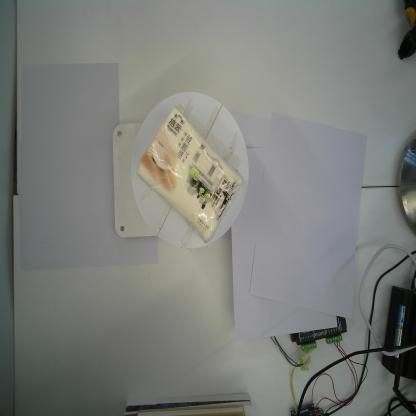Tissue: (134, 105, 244, 244)
